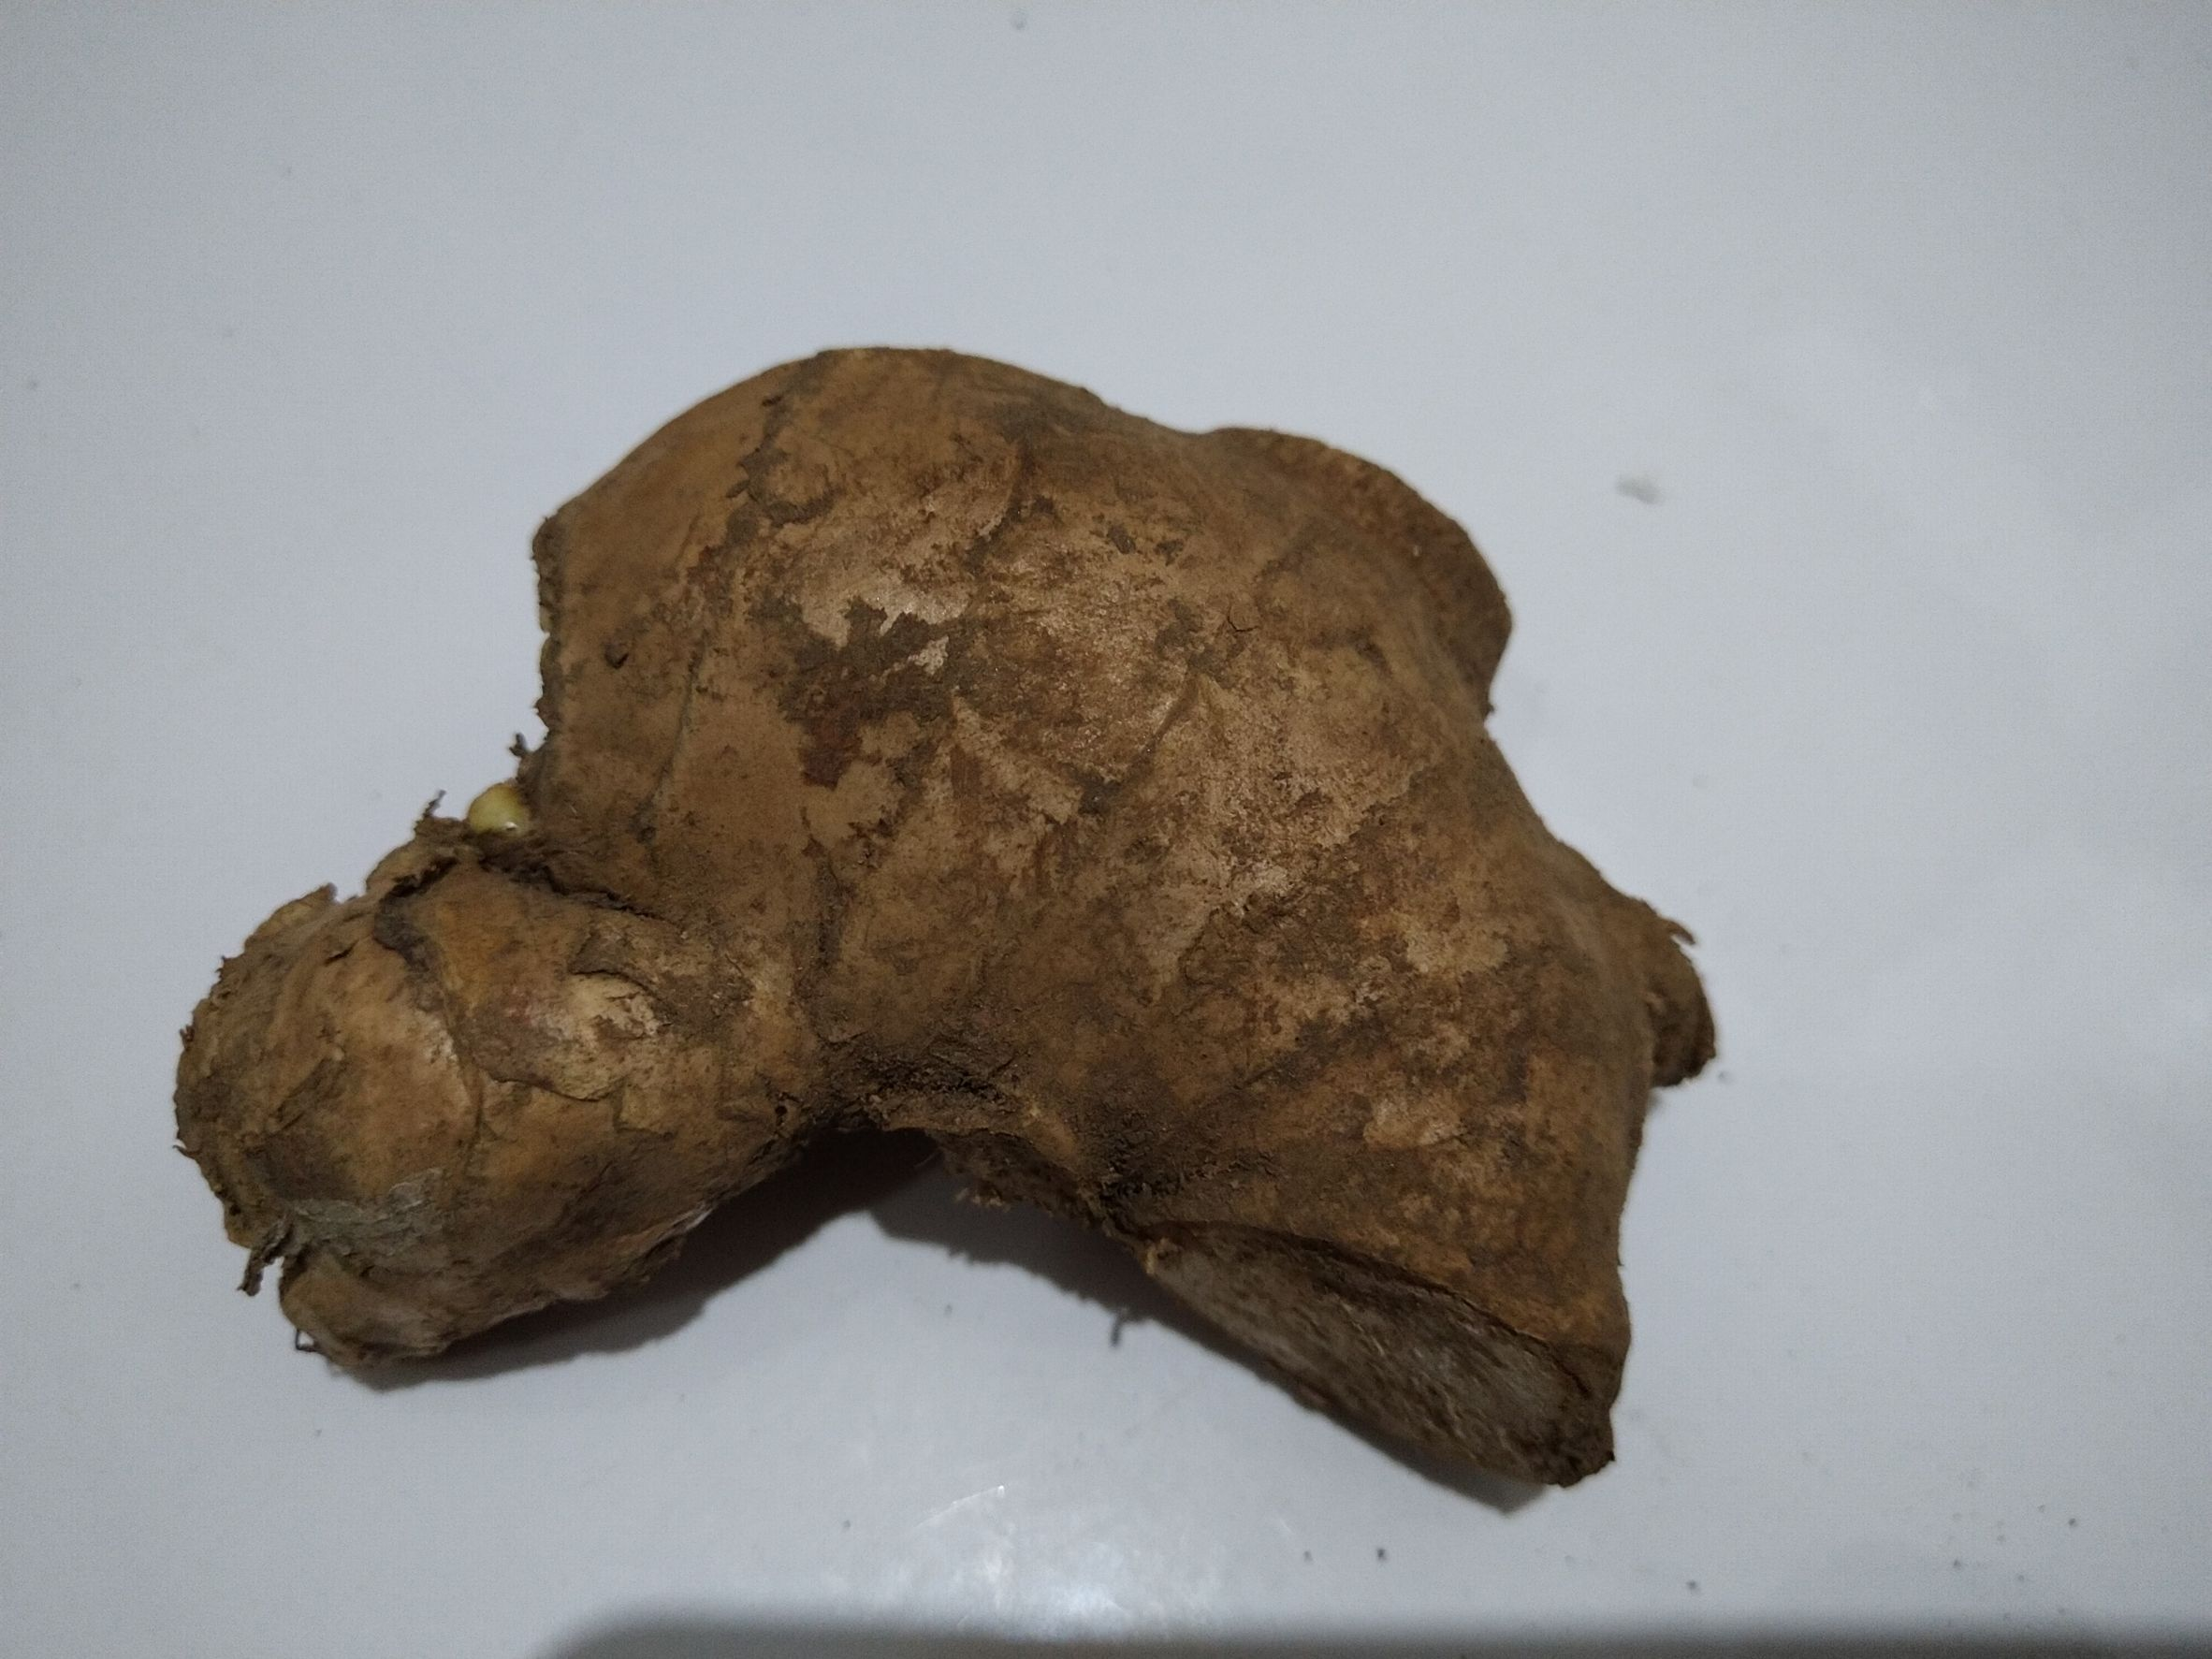Jahe: (228, 361, 1689, 1518)
